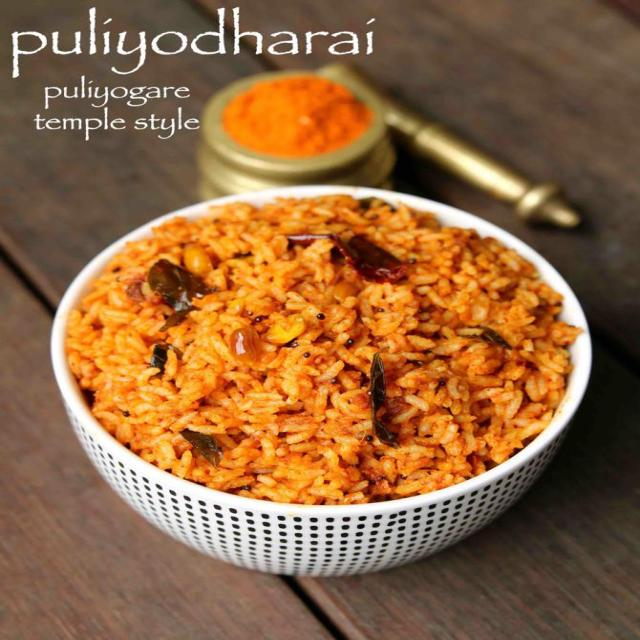puliyogare: (48, 178, 595, 520)
